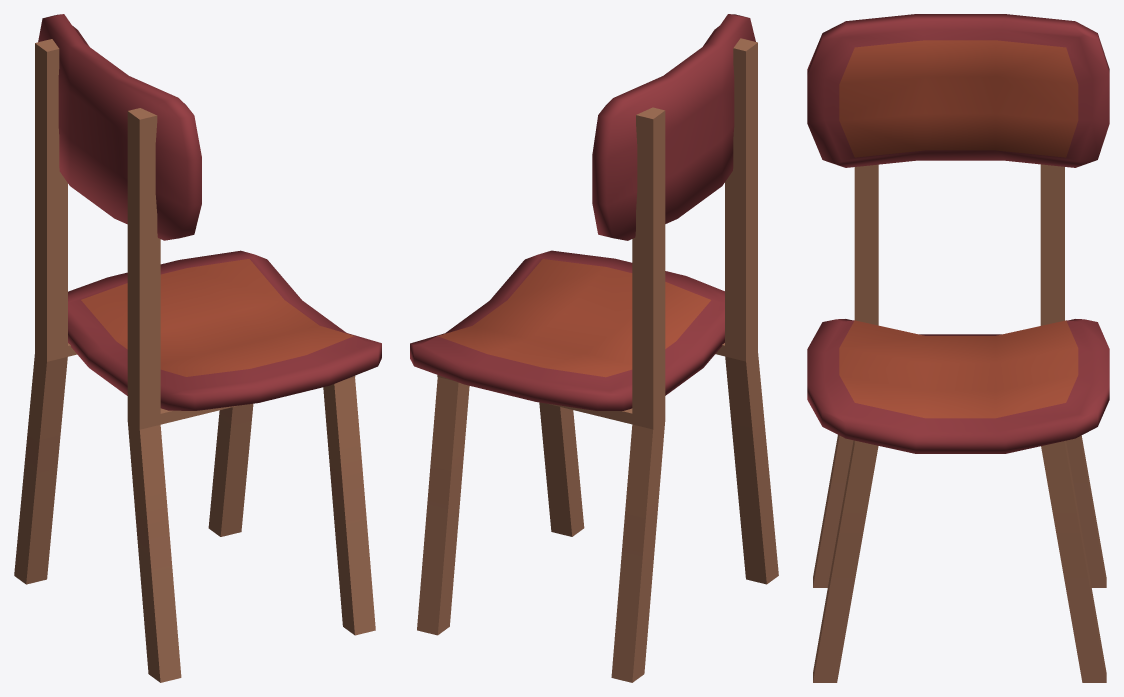
File: Chair_02.glb
3 views of the same model, side by side, from view 1: azimuth 30°, elevation 25°; view 2: azimuth 150°, elevation 25°; view 3: azimuth 270°, elevation 25° (orthographic).
Parts seen in each view (by area): view 1: Chair_02; view 2: Chair_02; view 3: Chair_02.
Part boxes in pixels (x1=…): Chair_02: x1=14, y1=14, x2=381, y2=682; Chair_02: x1=410, y1=14, x2=778, y2=682; Chair_02: x1=807, y1=14, x2=1109, y2=682.
Size of what is drawn, in the model's own units: 0.6034 by 1.37 by 0.6637.
Materials: 1 (1 with a texture image).
